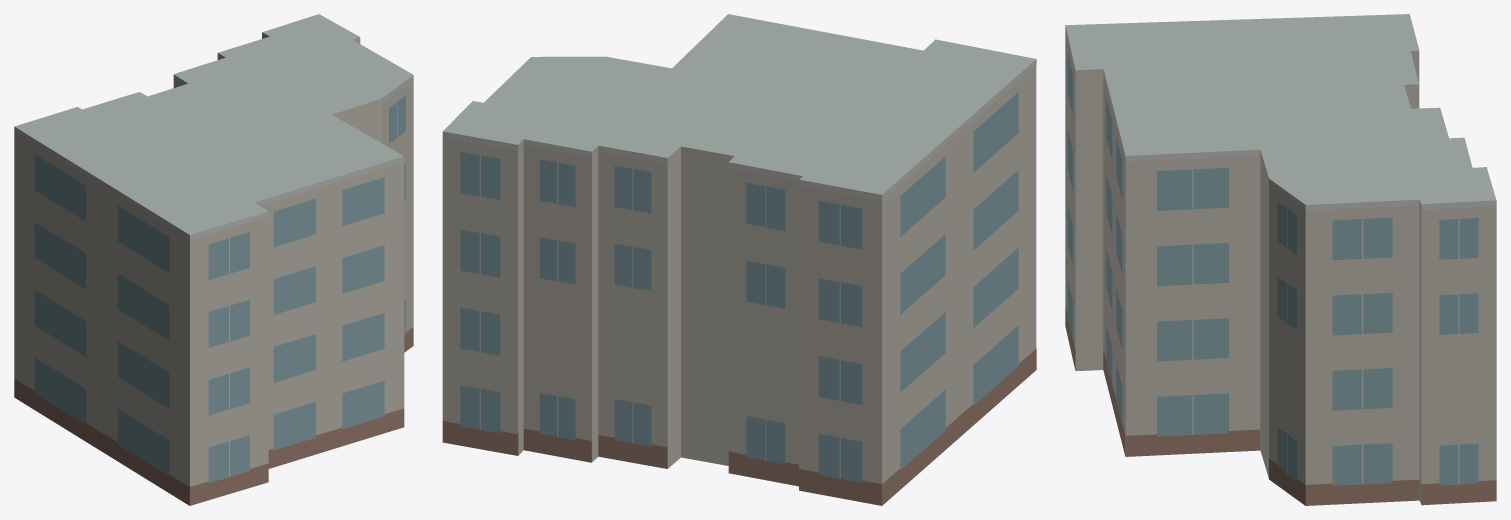
Rendered from survey-upis-32674905.glb.
3 renders of one model, left to right at view 1: azimuth 30°, elevation 25°; view 2: azimuth 150°, elevation 25°; view 3: azimuth 270°, elevation 25°, orthographic. The views are drawn at different scales.
Parts seen in each view (by area): view 1: survey-upis-32674905.tmp; view 2: survey-upis-32674905.tmp; view 3: survey-upis-32674905.tmp.
Boxes of the visible parts, x1,y1,x2,y2 form: survey-upis-32674905.tmp: (14, 14, 413, 505); survey-upis-32674905.tmp: (442, 14, 1036, 505); survey-upis-32674905.tmp: (1065, 14, 1496, 505).
Size of the model in its own units: 17.16 by 12.6 by 16.37.
